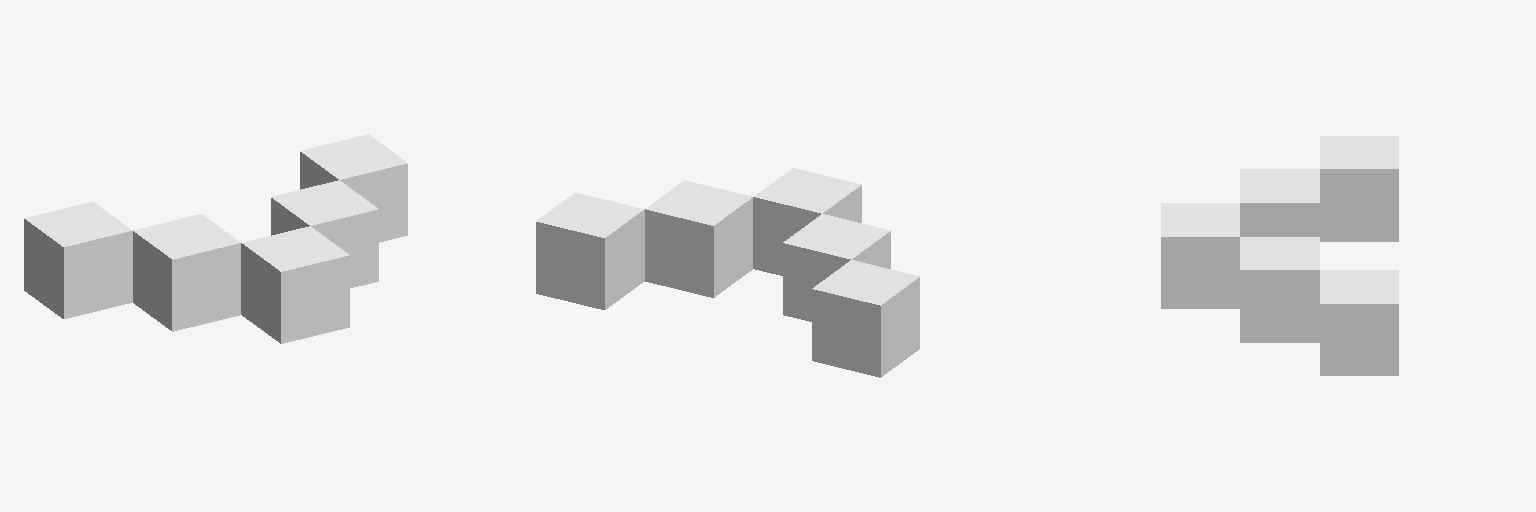
Rendered from BlueSelectorArrow.obj.
The picture shows the model from 3 angles: view 1: azimuth 30°, elevation 25°; view 2: azimuth 150°, elevation 25°; view 3: azimuth 270°, elevation 25°; orthographic projection.
Visible parts, largest first — view 1: object 1; view 2: object 1; view 3: object 1.
Boxes of the visible parts, box(x1,y1,x2,y2) form: object 1: box(24, 134, 407, 343); object 1: box(536, 168, 919, 377); object 1: box(1161, 136, 1398, 375).
Size of the model in its own units: 0.5 by 0.1 by 0.3.